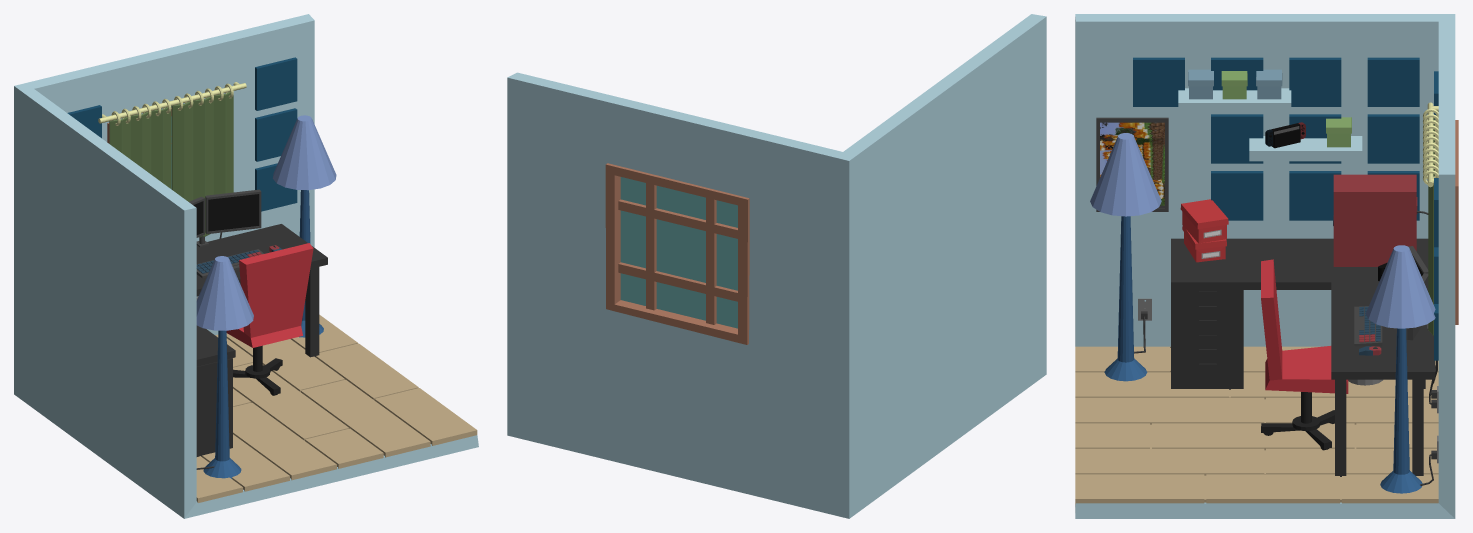
Rendered from creator_room.glb.
The picture shows the model from 3 angles, left to right: view 1: azimuth 30°, elevation 25°; view 2: azimuth 150°, elevation 25°; view 3: azimuth 270°, elevation 25°; orthographic projection. The views are drawn at different scales.
Parts seen in each view (by area): view 1: switch-window-walls, curtain-noise, chair-desk-dslr, boxes-lamp-trash, camera-computer-cords; view 2: switch-window-walls; view 3: switch-window-walls, chair-desk-dslr, curtain-noise, boxes-lamp-trash, camera-computer-cords, poster-minecraft.
Boxes of the visible parts, x1,y1,x2,y2 form: switch-window-walls: (14, 14, 478, 518); curtain-noise: (67, 57, 297, 237); chair-desk-dslr: (196, 224, 327, 456); boxes-lamp-trash: (196, 115, 336, 479); camera-computer-cords: (189, 189, 282, 469); switch-window-walls: (507, 14, 1046, 518); switch-window-walls: (1075, 14, 1458, 518); chair-desk-dslr: (1171, 238, 1435, 476); curtain-noise: (1133, 57, 1438, 360); boxes-lamp-trash: (1090, 69, 1435, 493); camera-computer-cords: (1134, 174, 1437, 485); poster-minecraft: (1096, 117, 1168, 211).
Bounding box in the file's own units: 200 × 200 × 202.
33 materials, 1 textured.
